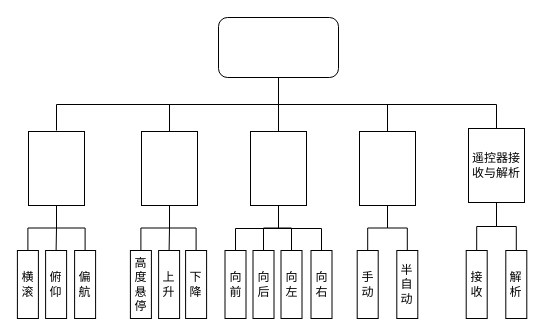
This 545x336 diagram has some shape labels left out. Each missing label, with the centre of its shape:
位置控制: the point at 278,168
姿态控制: the point at 56,168
系统需求分析: the point at 278,47
飞行模式控制: the point at 387,168
高度控制: the point at 169,168
